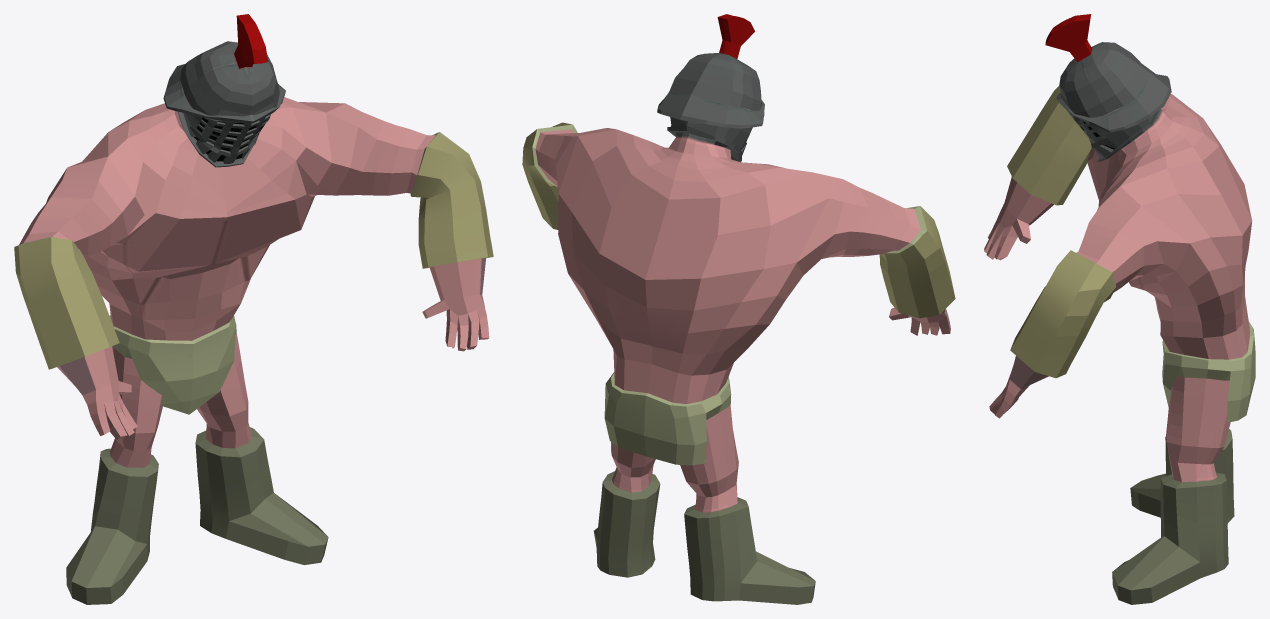
Rendered from GladiatorCelebracion_000446.obj.
3 views of the same model, side by side, from view 1: azimuth 30°, elevation 25°; view 2: azimuth 150°, elevation 25°; view 3: azimuth 270°, elevation 25° (orthographic). The views are drawn at different scales.
Visible parts, largest first — view 1: Gadiador_Gladiador_H; view 2: Gadiador_Gladiador_H; view 3: Gadiador_Gladiador_H.
Boxes of the visible parts, x1,y1,x2,y2 form: Gadiador_Gladiador_H: (14, 14, 493, 604); Gadiador_Gladiador_H: (522, 14, 955, 604); Gadiador_Gladiador_H: (984, 14, 1255, 604).
Bounding box in the file's own units: 5.78 × 7.08 × 3.22.
1 material, 1 textured.
